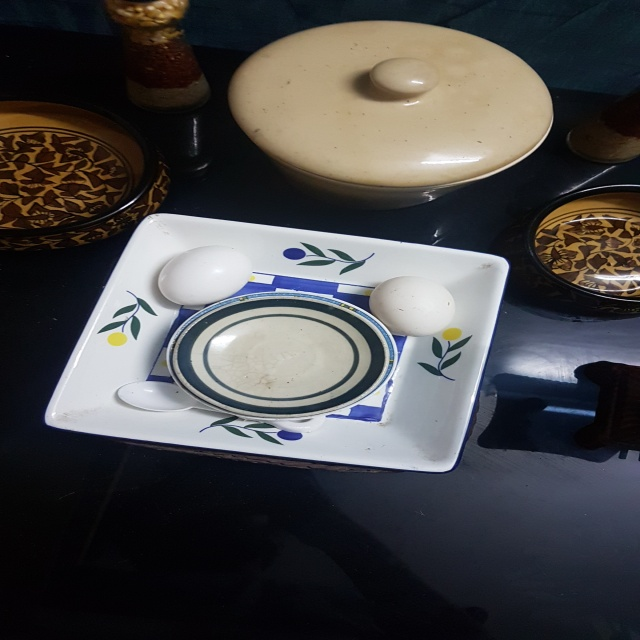eggs: (157, 246, 258, 304), (369, 276, 459, 338)
